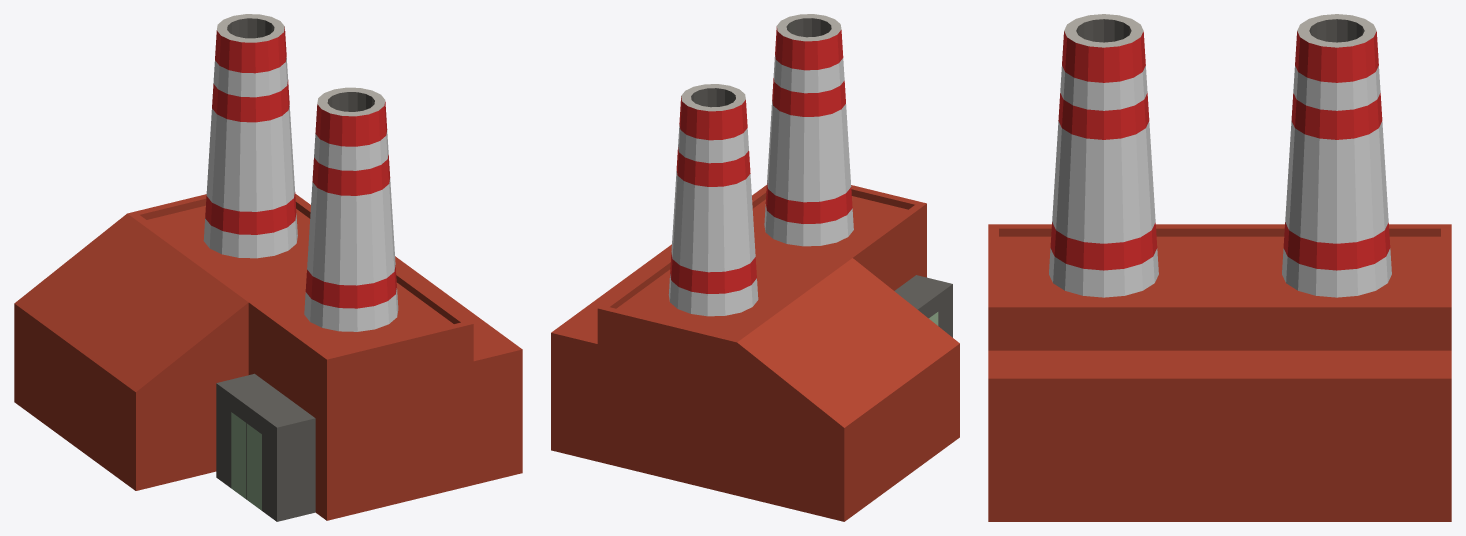
The model's file is fac_basic.fbx.
3 renders of one model, left to right at view 1: azimuth 30°, elevation 25°; view 2: azimuth 150°, elevation 25°; view 3: azimuth 270°, elevation 25°, orthographic. The views are drawn at different scales.
Parts seen in each view (by area): view 1: Factory; view 2: Factory; view 3: Factory.
Part boxes in pixels (left/top/right/bottom): Factory: left=14, top=14, right=522, bottom=521; Factory: left=551, top=14, right=959, bottom=521; Factory: left=988, top=14, right=1451, bottom=521.
Size of the model in its own units: 886 by 1000 by 994.
